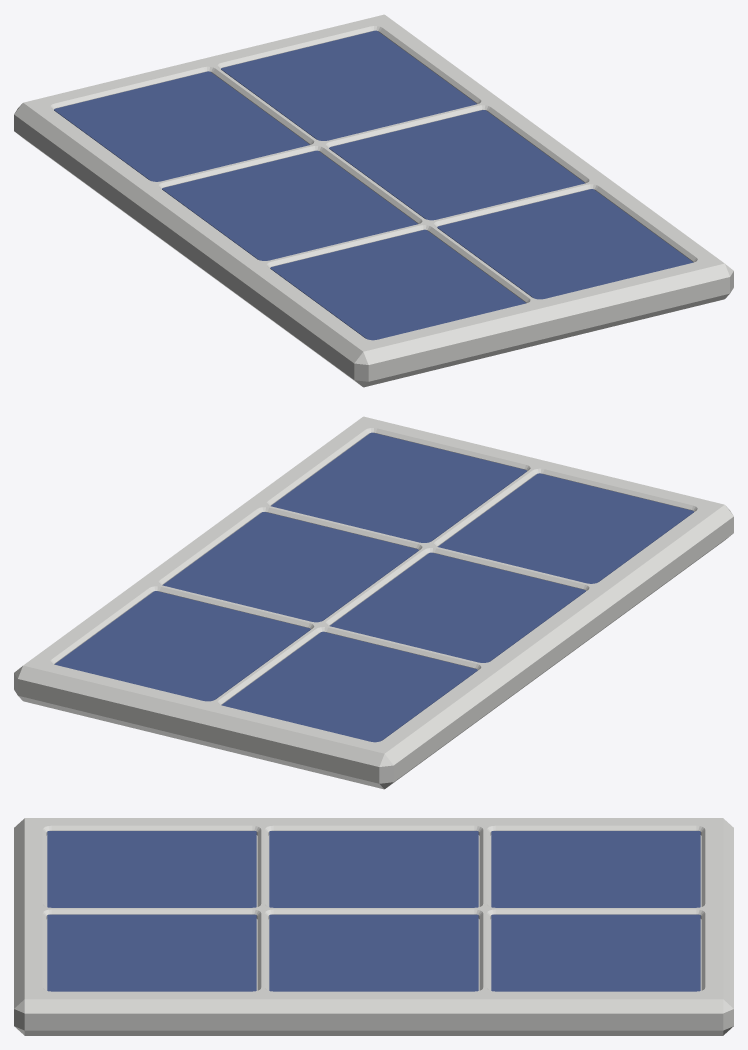
Rendered from ax_power_04_conformal_solar_s.glb.
3 views of the same model, one above another, from view 1: azimuth 30°, elevation 25°; view 2: azimuth 150°, elevation 25°; view 3: azimuth 270°, elevation 25° (orthographic). The views are drawn at different scales.
Parts seen in each view (by area): view 1: solar_cells, skin_panel; view 2: solar_cells, skin_panel; view 3: solar_cells, skin_panel.
Part boxes in pixels (x1,y1,x2,y2): solar_cells: (54, 30, 693, 340); skin_panel: (14, 14, 733, 387); solar_cells: (54, 432, 693, 742); skin_panel: (14, 416, 733, 789); solar_cells: (47, 831, 700, 991); skin_panel: (14, 818, 733, 1035).
Size of the model in its own units: 0.5 by 0.045 by 0.8.
